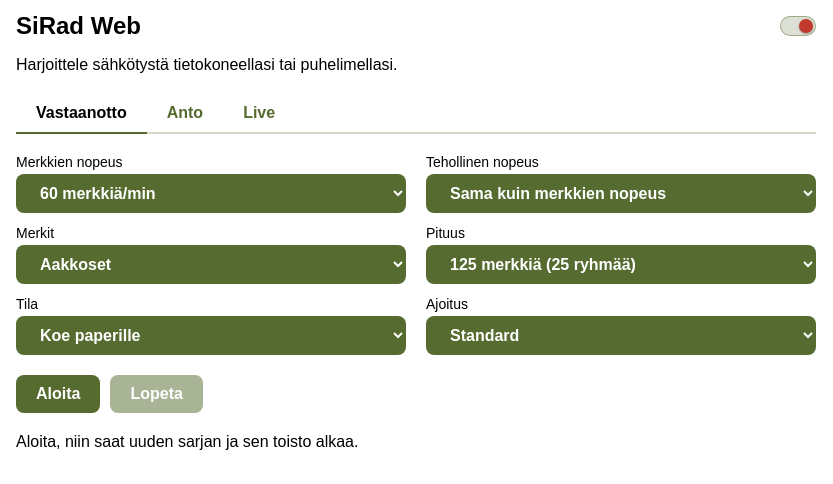
Test case: App › tells how to begin, and creates a series and plays it from one button
Expected: the text "Aloita, niin saat uuden sarjan ja sen toisto alkaa." is shown, [16,433,358,450]
Expected: the button "Lopeta" is disabled, [110,375,203,413]
Click the button "Aloita". click: (58, 394)
box: [16,375,100,413]
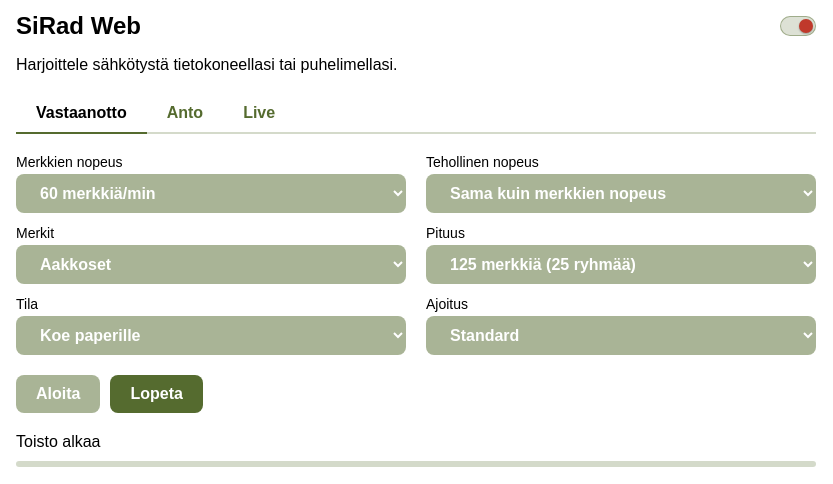
Expected: the text "Aloita, niin saat uuden sarjan ja sen toisto alkaa." is gone
